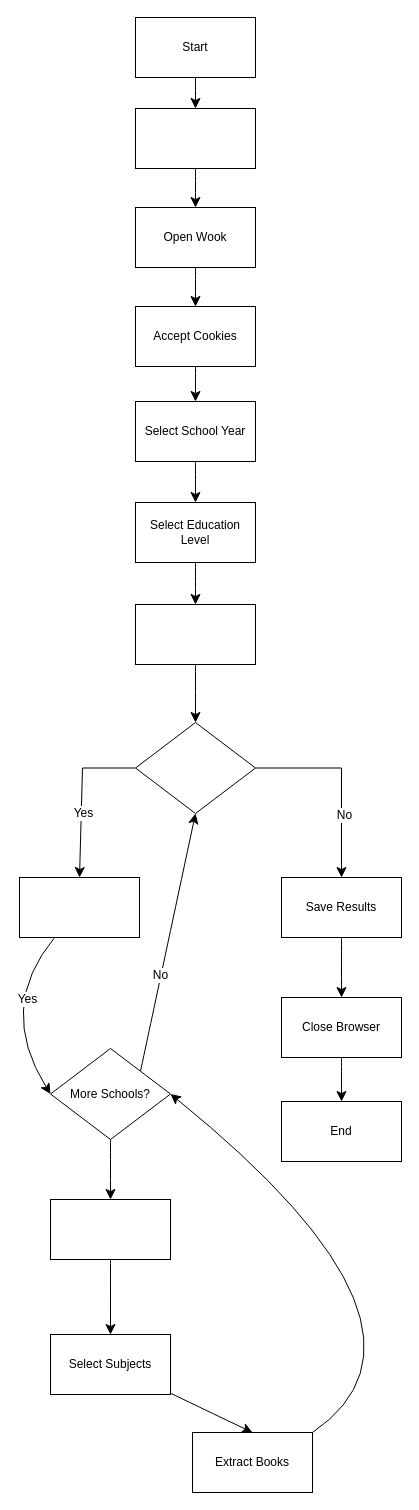
This 419x1510 diagram has some shape labels left out. The shapes that lost their labels are listed below. From the top down, each one's centre as x and y in pixels, then its label:
At (x=195, y=138): "Inicialize Browser".
At (x=195, y=634): "Load interactive Map".
At (x=195, y=768): "More Districts to Process?".
At (x=79, y=907): "Select District".
At (x=110, y=1229): "Select School".
